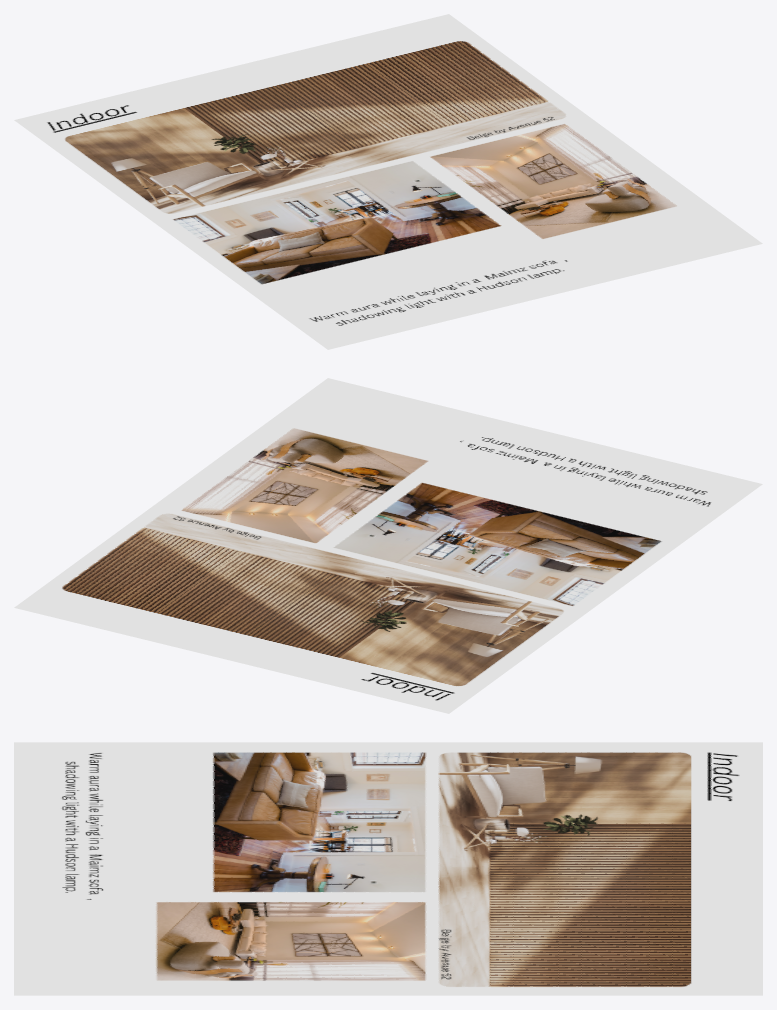
File: avenue51pg2.glb
3 views of the same model, one above another, from view 1: azimuth 30°, elevation 25°; view 2: azimuth 150°, elevation 25°; view 3: azimuth 270°, elevation 25° (orthographic). The views are drawn at different scales.
Visible parts, largest first — view 1: Plane; view 2: Plane; view 3: Plane.
Part boxes in pixels (x1,y1,x2,y2): Plane: (14,14,762,349); Plane: (14,378,762,713); Plane: (14,742,762,995).
Size of the model in its own units: 0.4 by 0 by 0.5.
1 material, 1 textured.
